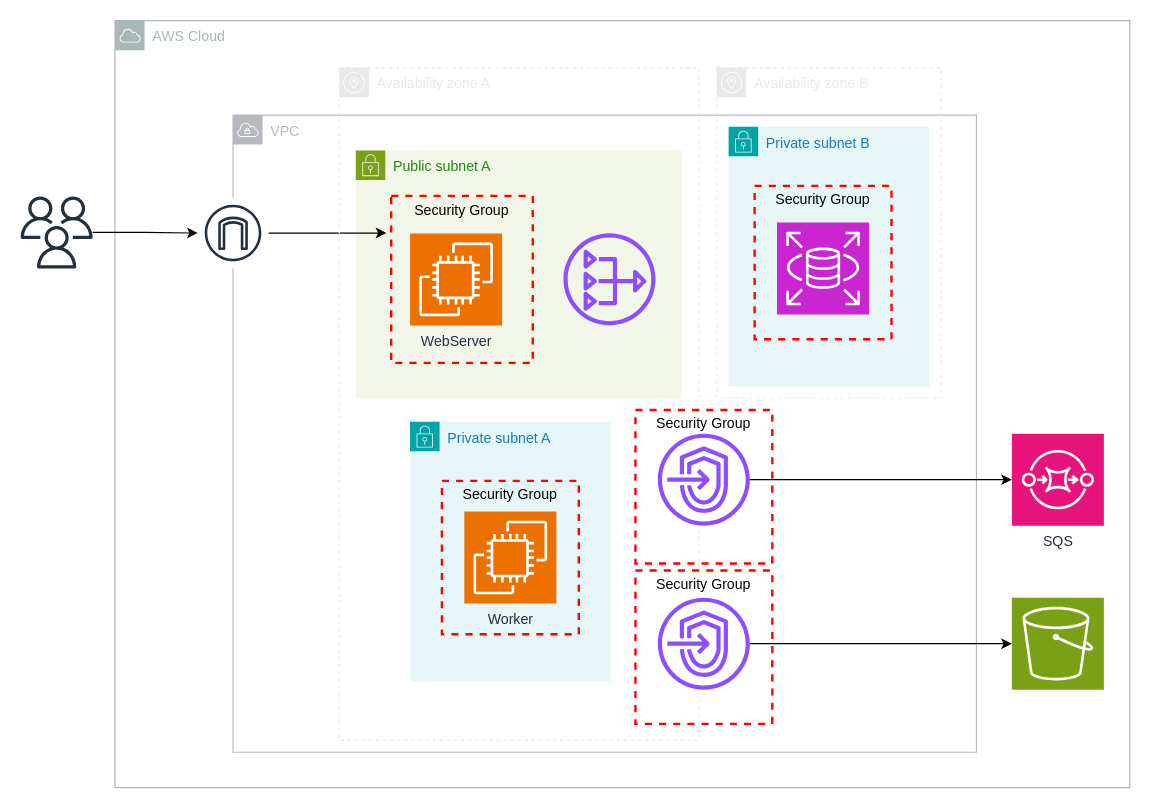
Image size: 1151x808. Some labels were removed from this diagram. Each missing label, with the centre of its shape:
"Internet gateway" goes at point 232,232.
"NAT Gateway" goes at point 609,279.
"RDS" goes at point 822,267.
"S3" goes at point 1057,643.
"VPC Endpoint S3" goes at point 703,643.
"VPC Endpoint SQS" goes at point 703,479.
